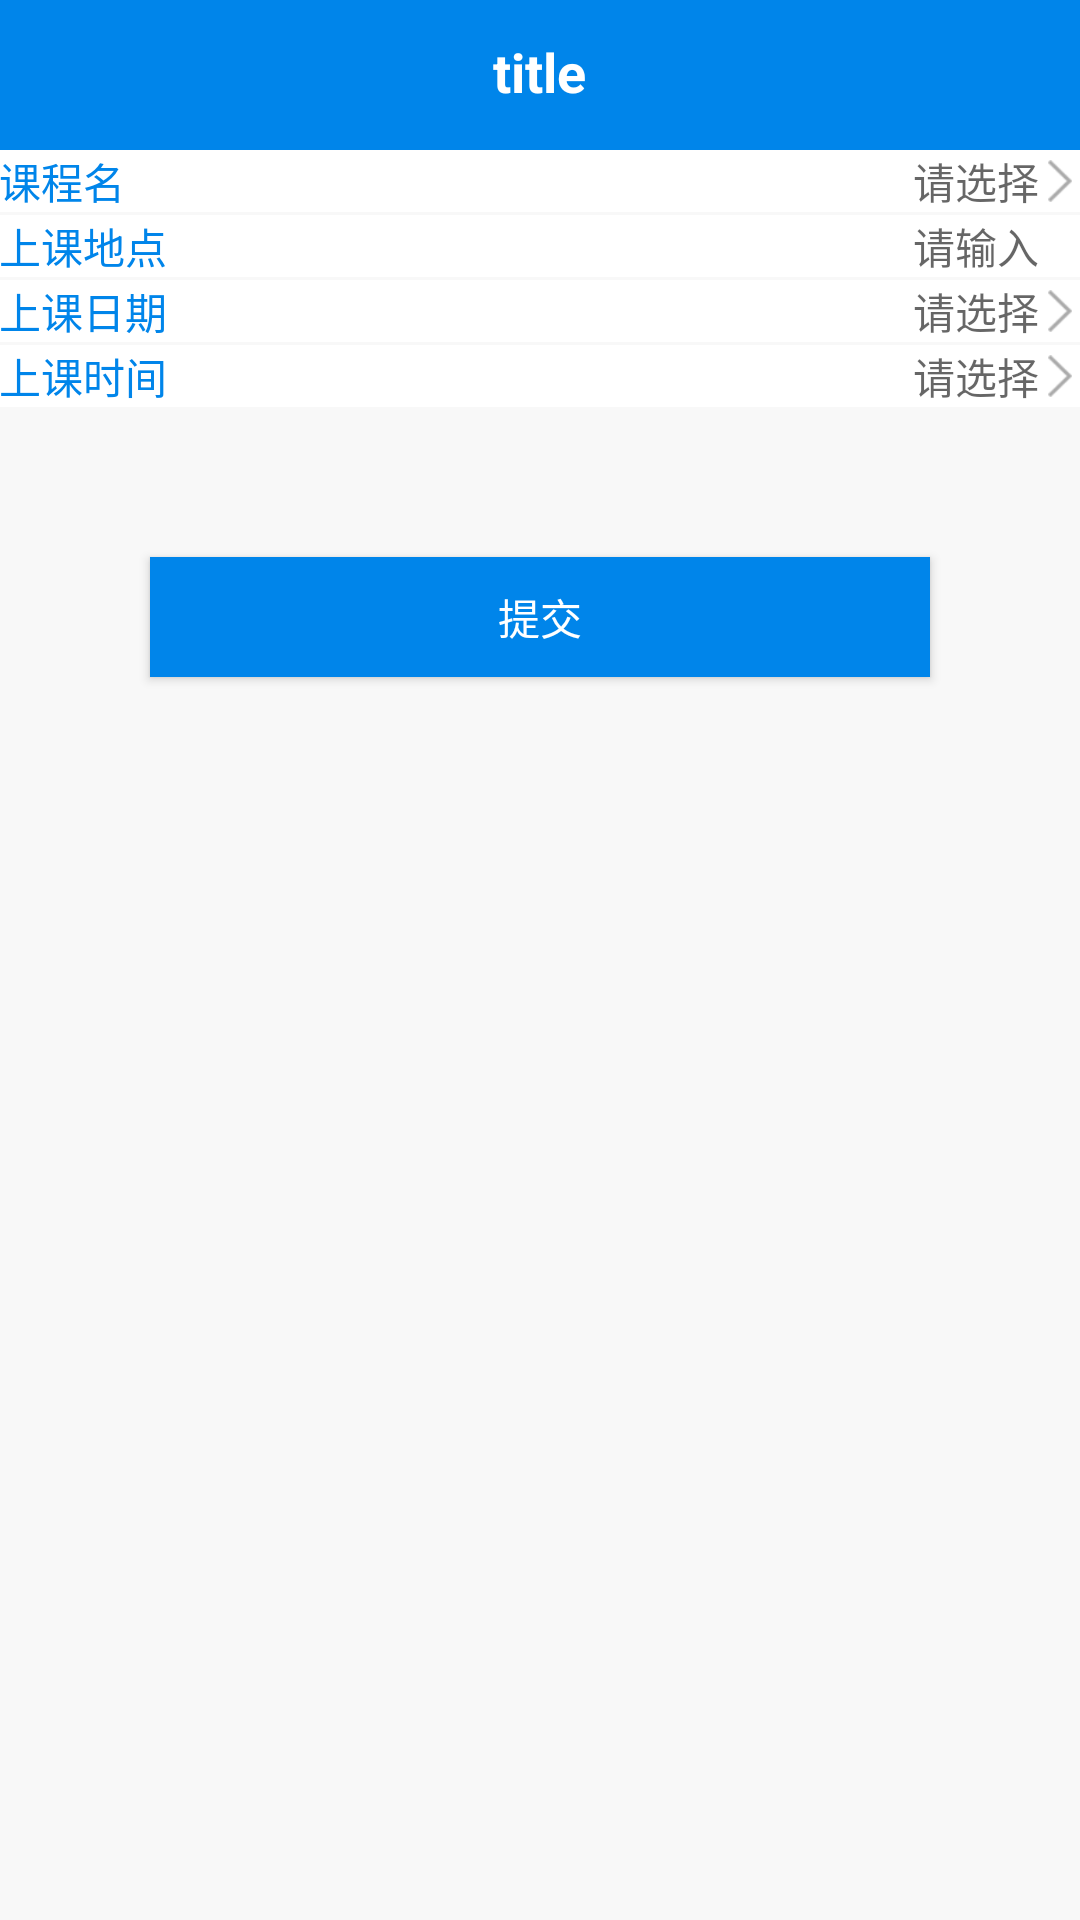

Screen size 1080px×1920px. Icon name, then its box in pixels as (x1, y1, x2, y2):
right: (1048, 160, 1072, 202), (1048, 290, 1072, 332), (1048, 355, 1072, 397)
